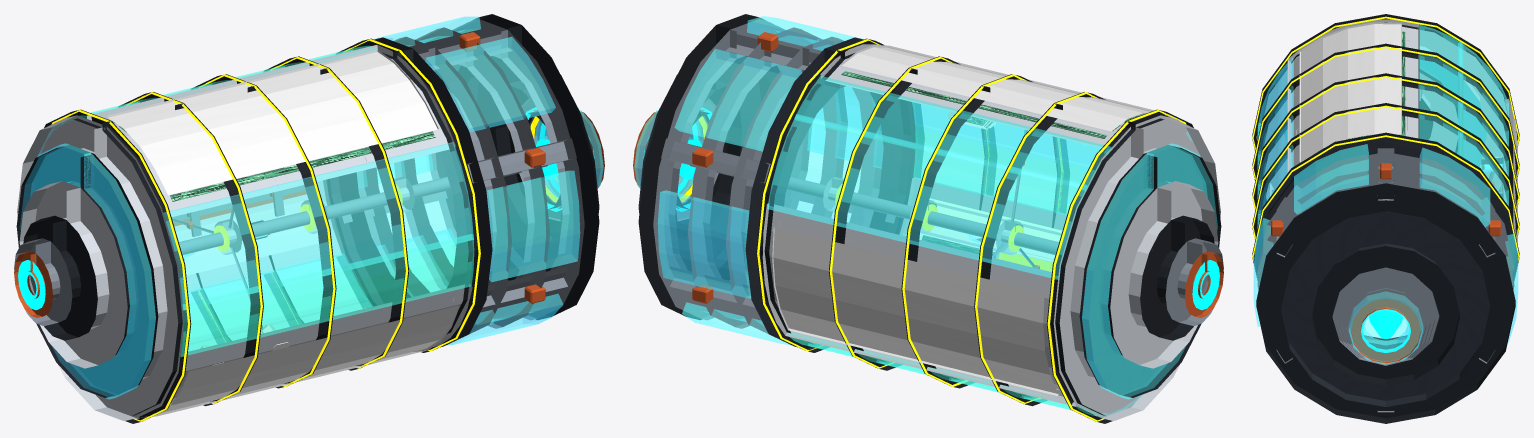
The model's file is env_cylinder_hab7_fullscale_map.glb.
The picture shows the model from 3 angles, left to right: view 1: azimuth 30°, elevation 25°; view 2: azimuth 150°, elevation 25°; view 3: azimuth 270°, elevation 25°; orthographic projection. The views are drawn at different scales.
Parts seen in each view (by area): view 1: Cyl02_Overhauled_glass_cyan, Cyl02_Overhauled_gunmetal, Cyl02_Overhauled_cliff_basalt, Cyl02_Overhauled_steel_machined, Cyl02_Overhauled_aero_white, Cyl02_Overhauled_glass_emerald, Cyl02_Overhauled_carbon_slate, Cyl02_Overhauled_led_amber, Cyl02_Overhauled_accent_orange, Cyl02_Overhauled_biome_canopy, Cyl02_Overhauled_led_cyan; view 2: Cyl02_Overhauled_glass_cyan, Cyl02_Overhauled_gunmetal, Cyl02_Overhauled_cliff_basalt, Cyl02_Overhauled_aero_white, Cyl02_Overhauled_steel_machined, Cyl02_Overhauled_glass_emerald, Cyl02_Overhauled_carbon_slate, Cyl02_Overhauled_led_amber, Cyl02_Overhauled_accent_orange, Cyl02_Overhauled_biome_canopy, Cyl02_Overhauled_promenade_paving, Cyl02_Overhauled_led_cyan; view 3: Cyl02_Overhauled_gunmetal, Cyl02_Overhauled_carbon_slate, Cyl02_Overhauled_glass_cyan, Cyl02_Overhauled_steel_machined, Cyl02_Overhauled_cliff_basalt, Cyl02_Overhauled_aero_white, Cyl02_Overhauled_glass_emerald, Cyl02_Overhauled_led_amber, Cyl02_Overhauled_accent_orange, Cyl02_Overhauled_led_cyan, Cyl02_Overhauled_biome_canopy.
Boxes of the visible parts, box(x1,y1,x2,y2) form: Cyl02_Overhauled_glass_cyan: box(20, 16, 603, 405); Cyl02_Overhauled_gunmetal: box(16, 14, 599, 423); Cyl02_Overhauled_cliff_basalt: box(107, 49, 459, 416); Cyl02_Overhauled_steel_machined: box(14, 19, 600, 333); Cyl02_Overhauled_aero_white: box(17, 44, 472, 420); Cyl02_Overhauled_glass_emerald: box(62, 45, 474, 356); Cyl02_Overhauled_carbon_slate: box(256, 37, 599, 350); Cyl02_Overhauled_led_amber: box(51, 39, 558, 421); Cyl02_Overhauled_accent_orange: box(14, 32, 604, 317); Cyl02_Overhauled_biome_canopy: box(112, 121, 435, 201); Cyl02_Overhauled_led_cyan: box(18, 107, 594, 310); Cyl02_Overhauled_glass_cyan: box(634, 16, 1217, 416); Cyl02_Overhauled_gunmetal: box(638, 14, 1221, 423); Cyl02_Overhauled_cliff_basalt: box(772, 45, 1154, 395); Cyl02_Overhauled_aero_white: box(762, 44, 1220, 420); Cyl02_Overhauled_steel_machined: box(637, 19, 1223, 333); Cyl02_Overhauled_glass_emerald: box(786, 76, 1111, 415); Cyl02_Overhauled_carbon_slate: box(638, 37, 918, 350); Cyl02_Overhauled_led_amber: box(679, 39, 1186, 421); Cyl02_Overhauled_accent_orange: box(633, 32, 1223, 317); Cyl02_Overhauled_biome_canopy: box(841, 71, 1138, 257); Cyl02_Overhauled_promenade_paving: box(919, 198, 1061, 261); Cyl02_Overhauled_led_cyan: box(643, 107, 1219, 310); Cyl02_Overhauled_gunmetal: box(1252, 14, 1519, 423); Cyl02_Overhauled_carbon_slate: box(1253, 137, 1518, 406); Cyl02_Overhauled_glass_cyan: box(1253, 42, 1518, 364); Cyl02_Overhauled_steel_machined: box(1257, 148, 1514, 412); Cyl02_Overhauled_cliff_basalt: box(1267, 22, 1517, 243); Cyl02_Overhauled_aero_white: box(1256, 19, 1516, 237); Cyl02_Overhauled_glass_emerald: box(1257, 24, 1463, 229); Cyl02_Overhauled_led_amber: box(1252, 16, 1519, 261); Cyl02_Overhauled_accent_orange: box(1271, 163, 1502, 363); Cyl02_Overhauled_led_cyan: box(1361, 309, 1410, 352); Cyl02_Overhauled_biome_canopy: box(1312, 31, 1405, 155).
Size of the model in its own units: 800 by 400 by 400.
19 materials, 19 textured.
